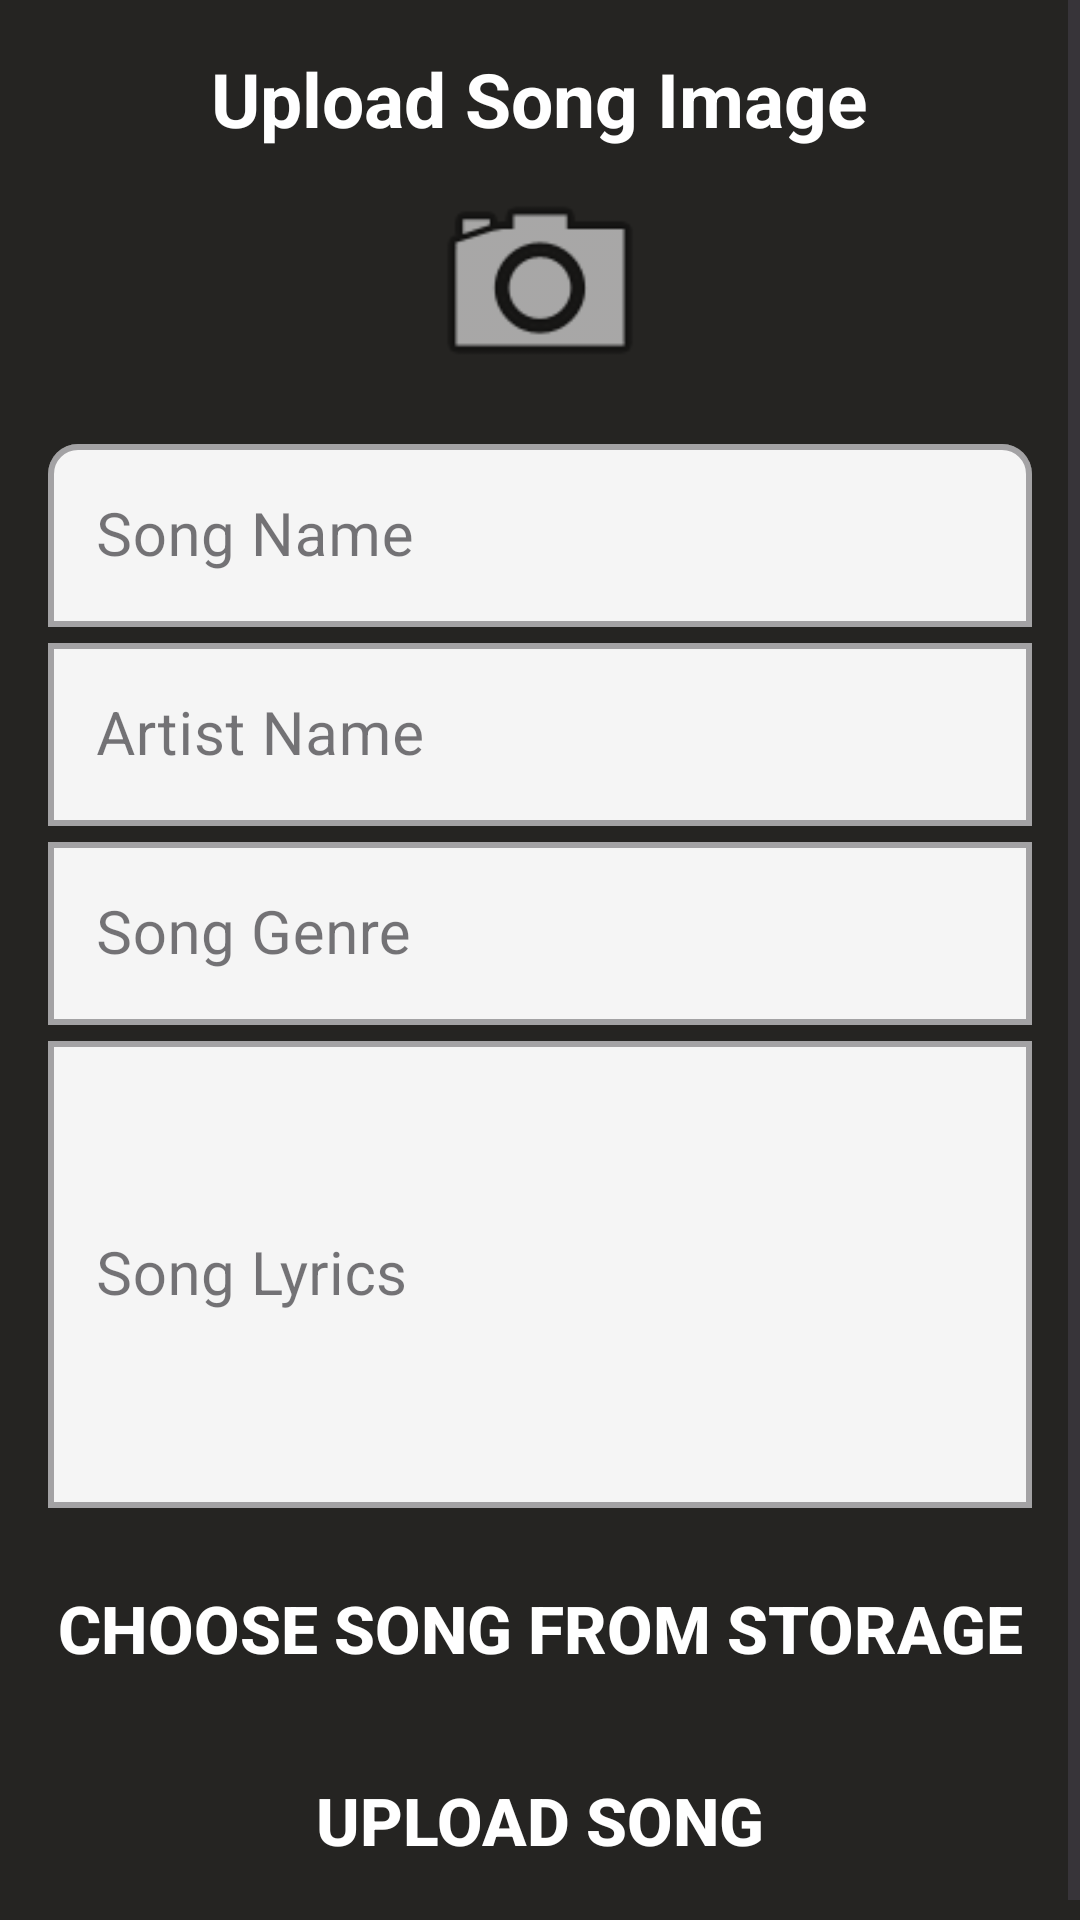

Point at icon controls on the screen. Image size 1080 x 1920, points as point (x, y).
camera: point (540, 280)
